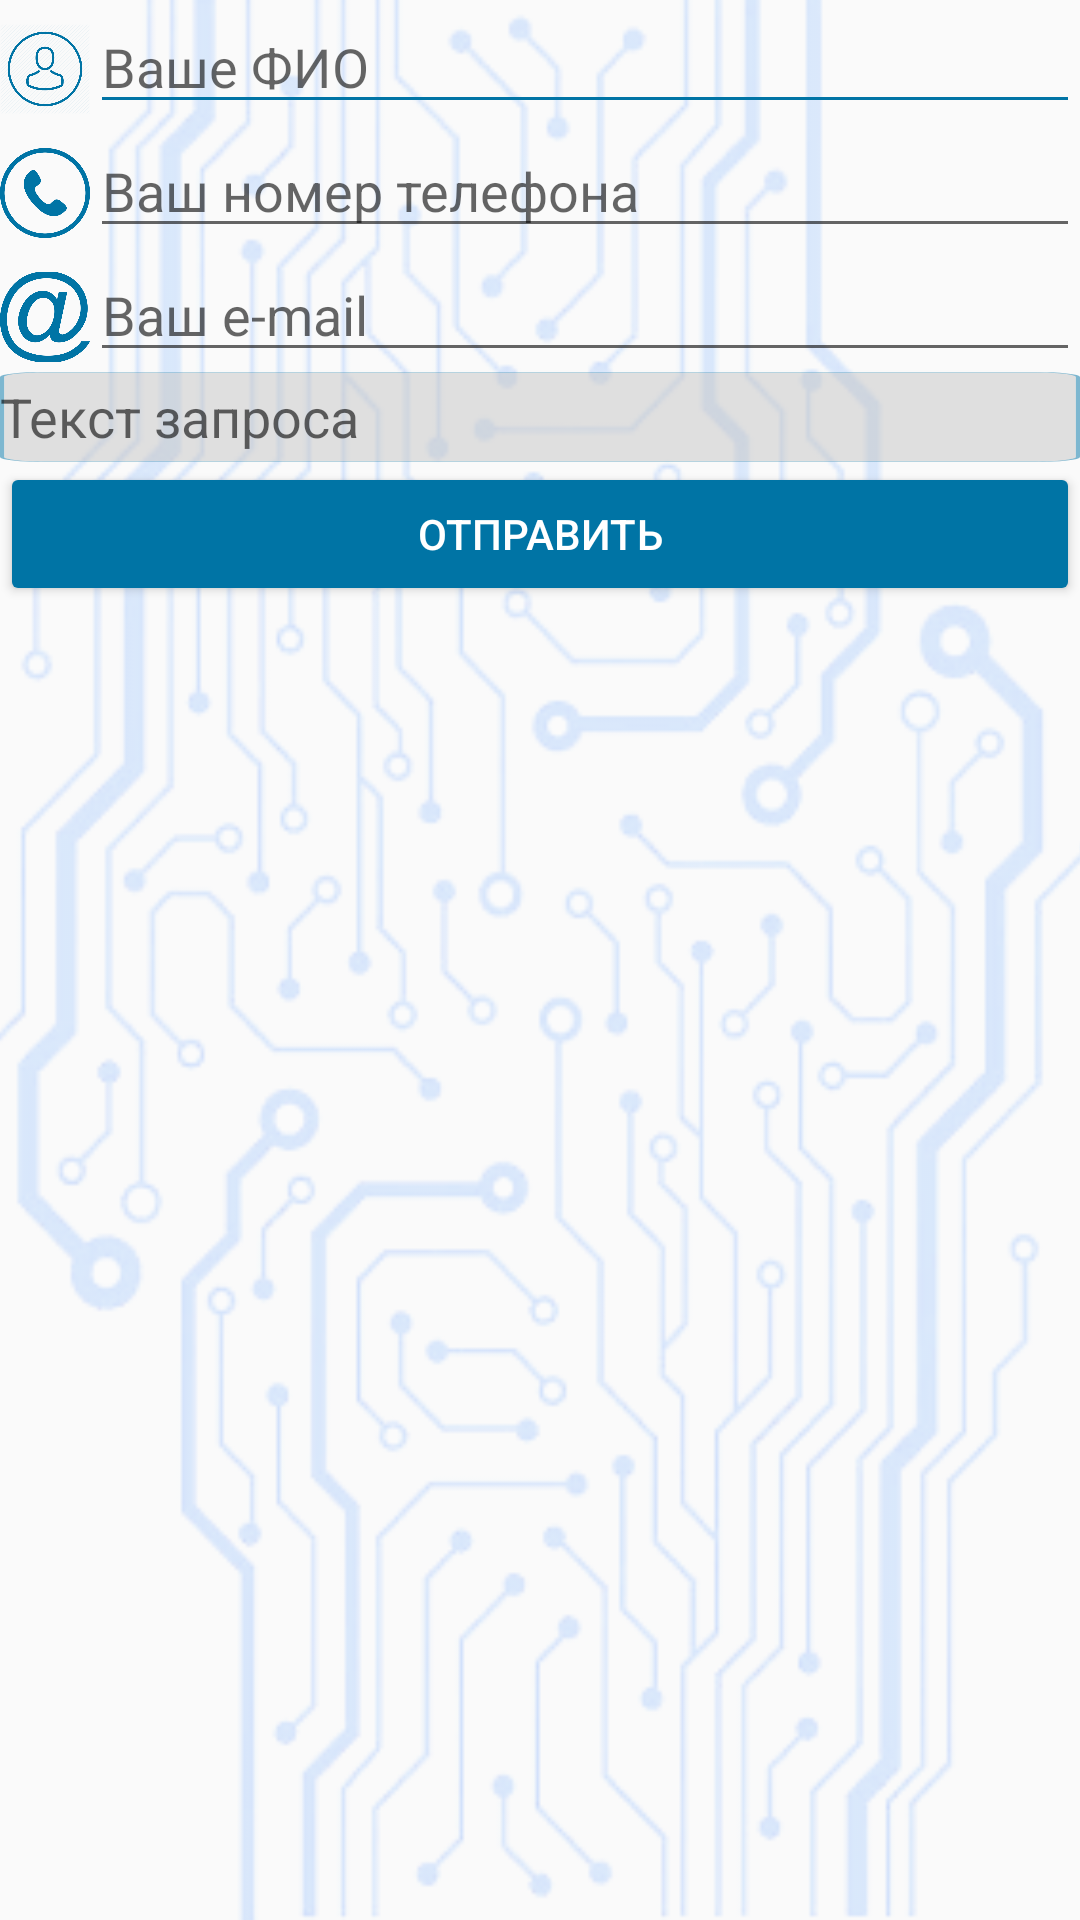

Point at icon controls on the screen. Image size 1080px×1920px, points as [x,y].
phone: [45,193]
